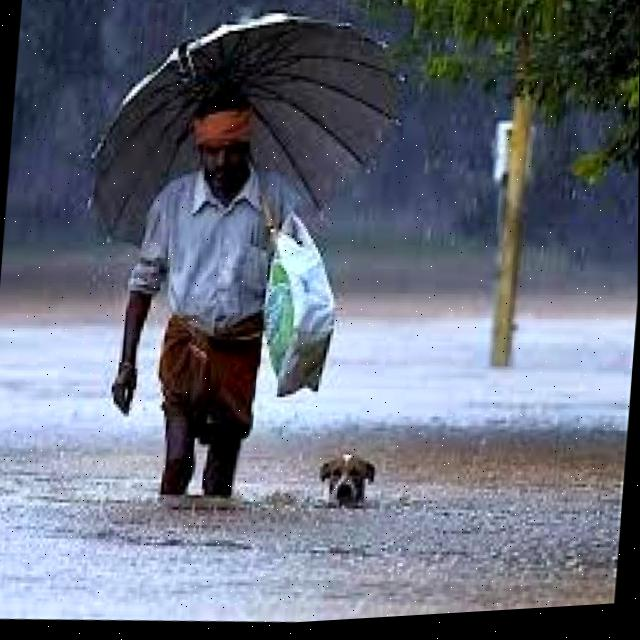civilian: (92, 68, 345, 511)
dog: (308, 430, 386, 523)
